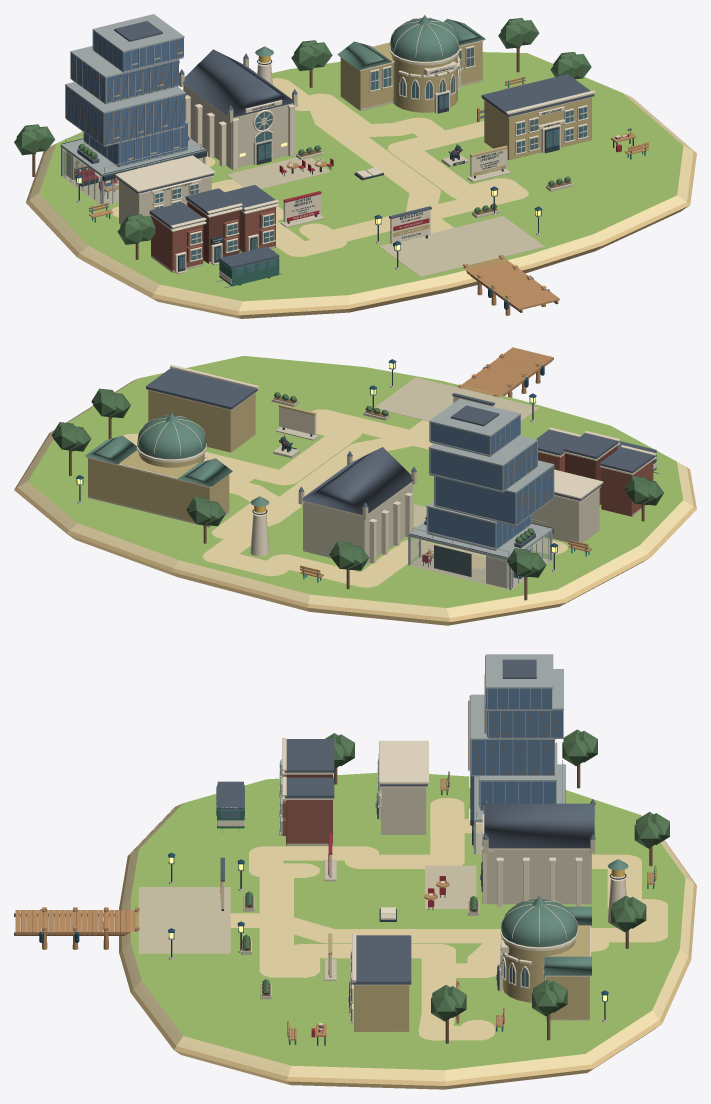
The model's file is education.glb.
3 views of the same model, one above another, from view 1: azimuth 30°, elevation 25°; view 2: azimuth 150°, elevation 25°; view 3: azimuth 270°, elevation 25° (orthographic). The views are drawn at different scales.
Visible parts, largest first — view 1: static_grass, static_sand, district_learning_campus_paving, static_sandEdge, occluder_campus_hamerschlag_dome_campus_sandstone, occluder_campus_marsh_roof_campus_slate, occluder_campus_hamerschlag_dome_campus_copper, occluder_campus_duan_middle_campus_reflectionBlue, static_wood, occluder_campus_marsh_roof_campus_limestone, occluder_campus_hamburg_roof_campus_sandstone, occluder_campus_marsh_roof_campus_trim (+44 smaller); view 2: static_grass, static_sand, occluder_campus_hamerschlag_dome_campus_sandstone, static_sandEdge, occluder_campus_hamerschlag_dome_campus_copper, occluder_campus_marsh_roof_campus_slate, occluder_campus_marsh_roof_campus_limestone, district_learning_campus_paving, occluder_campus_duan_middle_campus_reflectionBlue, occluder_campus_hamburg_roof_campus_sandstone, occluder_campus_duan_ground_walls_campus_windowClear, static_wood (+32 smaller); view 3: static_grass, static_sand, district_learning_campus_paving, static_sandEdge, occluder_campus_marsh_roof_campus_slate, occluder_campus_marsh_roof_campus_limestone, occluder_campus_hamerschlag_dome_campus_copper, static_wood, occluder_campus_hamerschlag_dome_campus_sandstone, occluder_campus_duan_middle_campus_reflectionBlue, occluder_campus_hamburg_roof_campus_slate, occluder_campus_hamburg_roof_campus_sandstone (+25 smaller).
Boxes of the visible parts, <box> form: static_grass: <box>39,52,683,301</box>; static_sand: <box>29,78,693,311</box>; district_learning_campus_paving: <box>61,157,544,276</box>; static_sandEdge: <box>26,97,696,318</box>; occluder_campus_hamerschlag_dome_campus_sandstone: <box>340,41,482,112</box>; occluder_campus_marsh_roof_campus_slate: <box>179,49,297,117</box>; occluder_campus_hamerschlag_dome_campus_copper: <box>337,15,485,70</box>; occluder_campus_duan_middle_campus_reflectionBlue: <box>65,86,185,144</box>; static_wood: <box>89,76,648,315</box>; occluder_campus_marsh_roof_campus_limestone: <box>179,58,297,168</box>; occluder_campus_hamburg_roof_campus_sandstone: <box>484,97,591,159</box>; occluder_campus_marsh_roof_campus_trim: <box>183,84,295,170</box>; static_grass: <box>27,356,683,608</box>; static_sand: <box>17,378,693,617</box>; occluder_campus_hamerschlag_dome_campus_sandstone: <box>88,450,229,521</box>; static_sandEdge: <box>14,431,696,625</box>; occluder_campus_hamerschlag_dome_campus_copper: <box>85,413,232,486</box>; occluder_campus_marsh_roof_campus_slate: <box>299,447,416,514</box>; occluder_campus_marsh_roof_campus_limestone: <box>298,456,416,566</box>; district_learning_campus_paving: <box>374,377,551,589</box>; occluder_campus_duan_middle_campus_reflectionBlue: <box>435,466,553,524</box>; occluder_campus_hamburg_roof_campus_sandstone: <box>148,390,255,452</box>; occluder_campus_duan_ground_walls_campus_windowClear: <box>408,533,551,589</box>; static_wood: <box>300,347,591,577</box>; static_grass: <box>130,773,685,1070</box>; static_sand: <box>122,798,693,1081</box>; district_learning_campus_paving: <box>138,833,482,953</box>; static_sandEdge: <box>119,806,696,1089</box>; occluder_campus_marsh_roof_campus_slate: <box>482,799,595,848</box>; occluder_campus_marsh_roof_campus_limestone: <box>483,805,595,904</box>; occluder_campus_hamerschlag_dome_campus_copper: <box>501,896,591,975</box>; static_wood: <box>15,771,656,1040</box>; occluder_campus_hamerschlag_dome_campus_sandstone: <box>502,925,589,1020</box>; occluder_campus_duan_middle_campus_reflectionBlue: <box>470,740,554,774</box>; occluder_campus_hamburg_roof_campus_slate: <box>352,935,411,984</box>; occluder_campus_hamburg_roof_campus_sandstone: <box>354,985,409,1031</box>.
Size of the model in its own units: 56 by 15.05 by 52.
